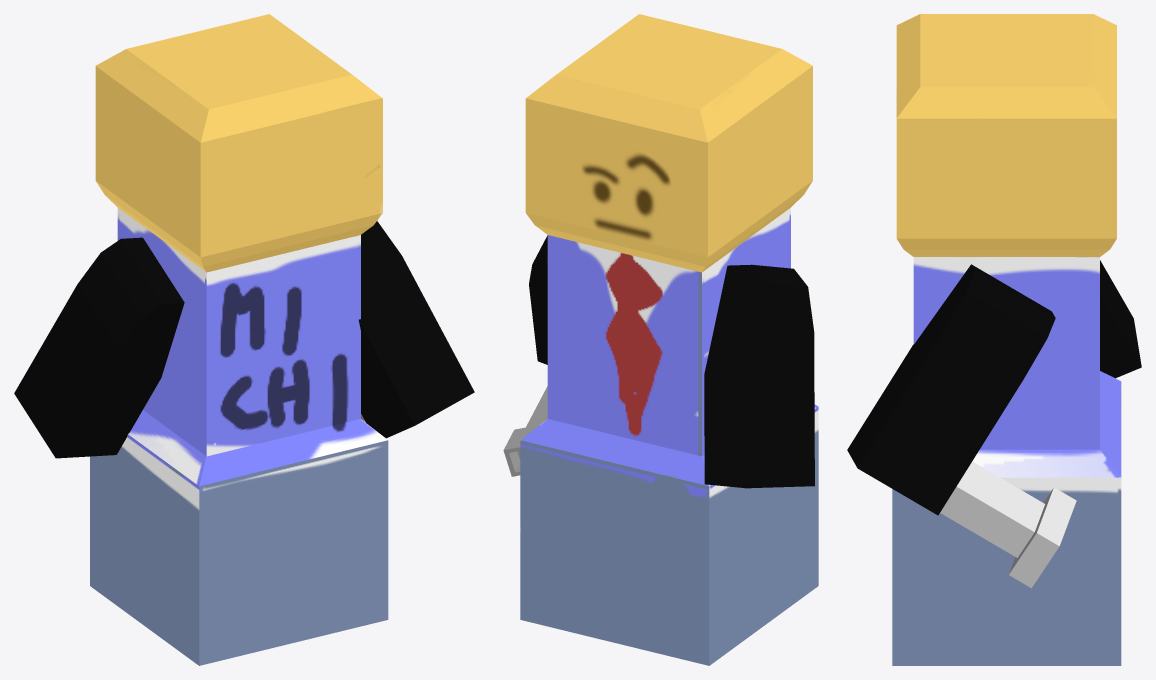
Rendered from figur.gltf.
The picture shows the model from 3 angles, left to right: view 1: azimuth 30°, elevation 25°; view 2: azimuth 150°, elevation 25°; view 3: azimuth 270°, elevation 25°; orthographic projection. The views are drawn at different scales.
Parts seen in each view (by area): view 1: Cube.004, Cube.008, Cube.005, Cube.006; view 2: Cube.004, Cube.008, Cube.005, Cube.006, Cube.007; view 3: Cube.004, Cube.008, Cube.006, Cube.007, Cube.005.
Boxes of the visible parts, box(x1,y1,x2,y2) form: Cube.004: box(90, 208, 388, 665); Cube.008: box(95, 14, 382, 272); Cube.005: box(14, 237, 184, 458); Cube.006: box(358, 221, 474, 438); Cube.004: box(520, 208, 818, 665); Cube.008: box(525, 14, 812, 272); Cube.005: box(704, 264, 814, 488); Cube.006: box(529, 235, 547, 364); Cube.007: box(503, 386, 547, 476); Cube.004: box(892, 257, 1121, 665); Cube.008: box(896, 14, 1116, 256); Cube.006: box(847, 264, 1055, 515); Cube.007: box(940, 461, 1076, 587); Cube.005: box(1100, 260, 1141, 378).
Size of the model in its own units: 3.48 by 5.47 by 2.58.
3 materials, 1 textured.
